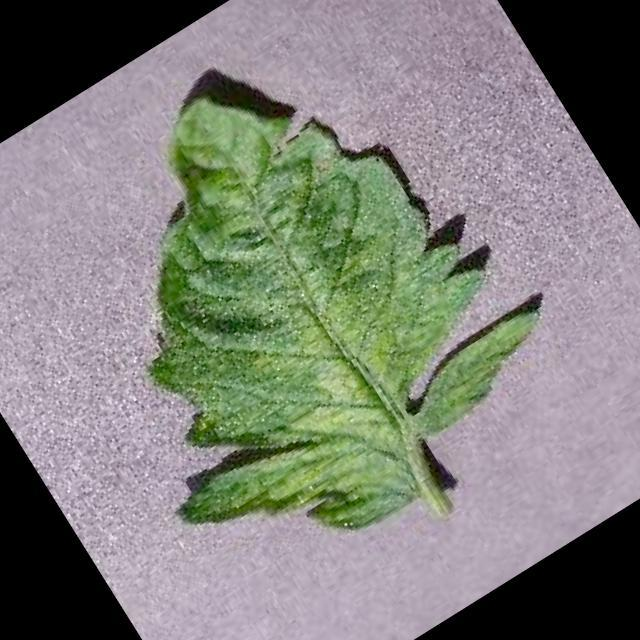Tomato mosaic virus leaf: (0, 0, 593, 609)
